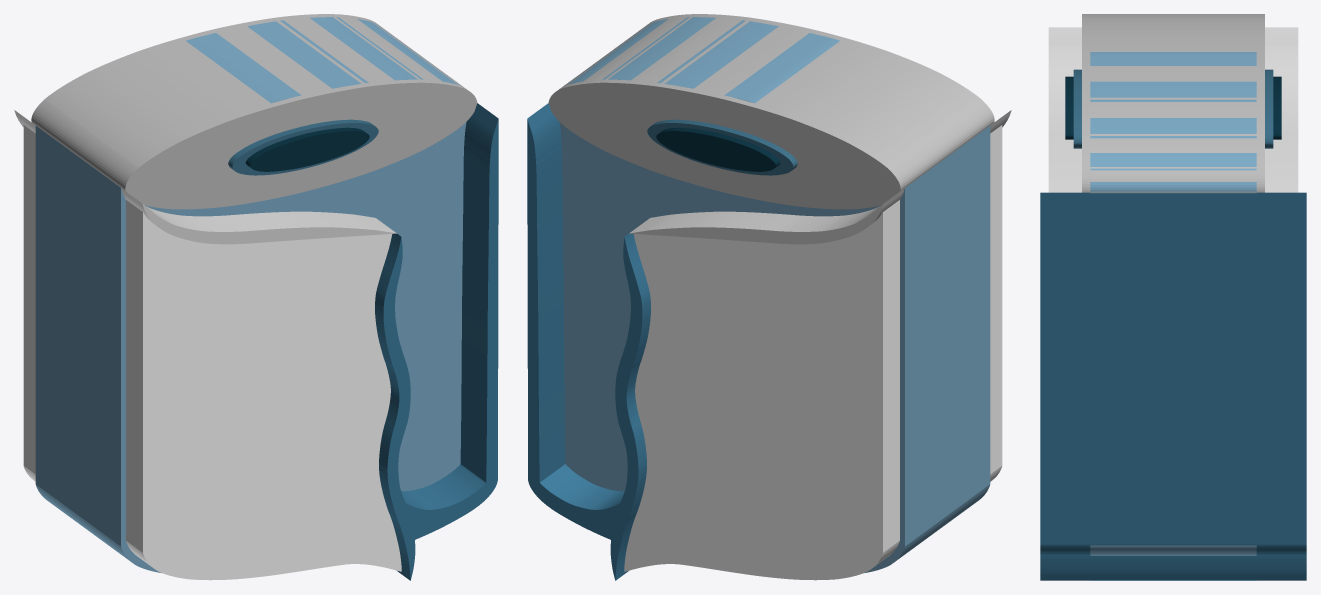
3 views of the same model, side by side, from view 1: azimuth 30°, elevation 25°; view 2: azimuth 150°, elevation 25°; view 3: azimuth 270°, elevation 25° (orthographic). The views are drawn at different scales.
Visible parts, largest first — view 1: U+1F9FB_layer04_obj00, U+1F9FB_layer01_obj00, U+1F9FB_layer00_obj02, U+1F9FB_layer00_obj00, U+1F9FB_layer06_obj01, U+1F9FB_layer00_obj01, U+1F9FB_layer06_obj00, U+1F9FB_layer05_obj00, U+1F9FB_layer03_obj00, U+1F9FB_layer02_obj00; view 2: U+1F9FB_layer04_obj00, U+1F9FB_layer01_obj00, U+1F9FB_layer00_obj02, U+1F9FB_layer00_obj00, U+1F9FB_layer06_obj01, U+1F9FB_layer00_obj01, U+1F9FB_layer06_obj00, U+1F9FB_layer05_obj00, U+1F9FB_layer03_obj00, U+1F9FB_layer02_obj00; view 3: U+1F9FB_layer06_obj01, U+1F9FB_layer01_obj00, U+1F9FB_layer00_obj01, U+1F9FB_layer05_obj00, U+1F9FB_layer06_obj00, U+1F9FB_layer00_obj00, U+1F9FB_layer02_obj00, U+1F9FB_layer03_obj00.
Boxes of the visible parts, <box> form: U+1F9FB_layer04_obj00: <box>23,125,401,580</box>; U+1F9FB_layer01_obj00: <box>31,14,477,209</box>; U+1F9FB_layer00_obj02: <box>35,126,160,572</box>; U+1F9FB_layer00_obj00: <box>130,125,464,556</box>; U+1F9FB_layer06_obj01: <box>401,103,498,540</box>; U+1F9FB_layer00_obj01: <box>186,17,466,139</box>; U+1F9FB_layer06_obj00: <box>375,233,415,580</box>; U+1F9FB_layer05_obj00: <box>14,110,396,244</box>; U+1F9FB_layer03_obj00: <box>245,127,369,171</box>; U+1F9FB_layer02_obj00: <box>228,119,378,175</box>; U+1F9FB_layer04_obj00: <box>624,125,1002,580</box>; U+1F9FB_layer01_obj00: <box>548,14,994,209</box>; U+1F9FB_layer00_obj02: <box>865,126,990,572</box>; U+1F9FB_layer00_obj00: <box>559,122,895,557</box>; U+1F9FB_layer06_obj01: <box>527,103,624,540</box>; U+1F9FB_layer00_obj01: <box>560,17,839,137</box>; U+1F9FB_layer06_obj00: <box>610,233,650,580</box>; U+1F9FB_layer05_obj00: <box>629,110,1011,244</box>; U+1F9FB_layer03_obj00: <box>656,127,780,171</box>; U+1F9FB_layer02_obj00: <box>647,119,797,175</box>; U+1F9FB_layer06_obj01: <box>1040,192,1306,555</box>; U+1F9FB_layer01_obj00: <box>1082,14,1264,192</box>; U+1F9FB_layer00_obj01: <box>1090,52,1256,193</box>; U+1F9FB_layer05_obj00: <box>1048,27,1298,192</box>; U+1F9FB_layer06_obj00: <box>1040,556,1306,580</box>; U+1F9FB_layer00_obj00: <box>1090,545,1256,555</box>; U+1F9FB_layer02_obj00: <box>1073,69,1273,148</box>; U+1F9FB_layer03_obj00: <box>1065,76,1281,139</box>.
Size of the model in its own units: 0.2379 by 0.3146 by 0.16.
